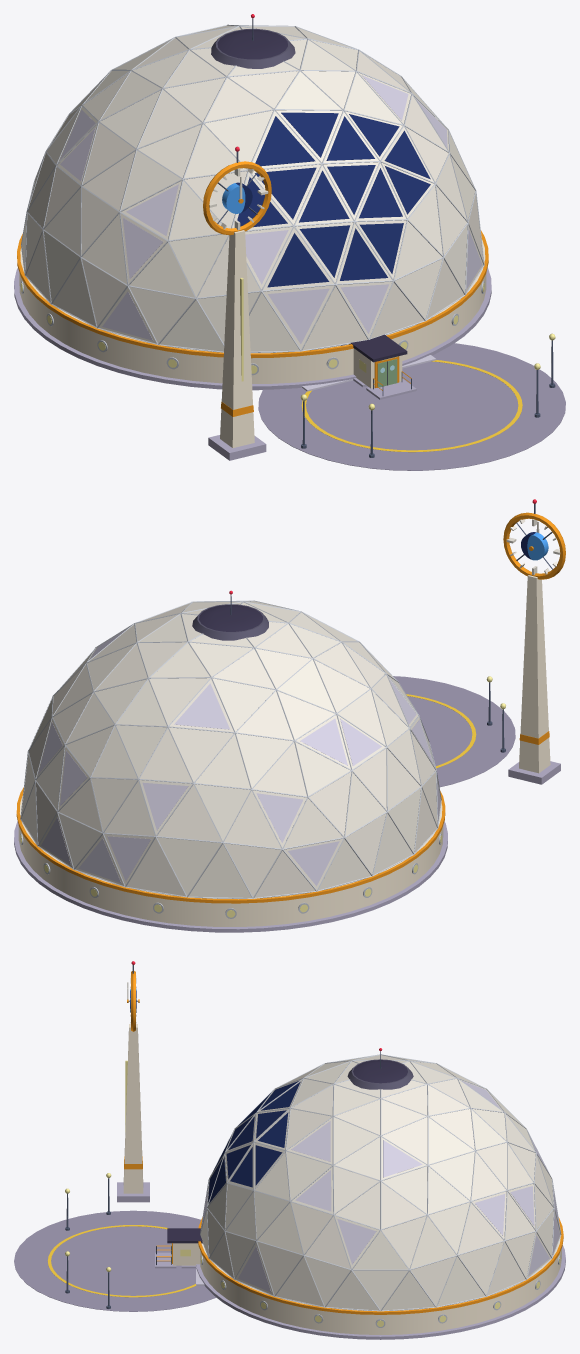
The model's file is kepler.glb.
3 views of the same model, one above another, from view 1: azimuth 30°, elevation 25°; view 2: azimuth 150°, elevation 25°; view 3: azimuth 270°, elevation 25° (orthographic). The views are drawn at different scales.
Visible parts, largest first — view 1: kepler_dome_b_22, kepler_hall, kepler_dome_b_22_roof_20, kepler_dome_b_22_cream_13; view 2: kepler_dome_b_22, kepler_hall; view 3: kepler_dome_b_22, kepler_hall, kepler_dome_b_22_cream_13.
Boxes of the visible parts, x1,y1,x2,y2 form: kepler_dome_b_22: (14,14,491,390); kepler_hall: (203,146,565,470); kepler_dome_b_22_roof_20: (349,338,407,362); kepler_dome_b_22_cream_13: (353,348,402,388); kepler_dome_b_22: (14,590,447,932); kepler_hall: (393,499,565,787); kepler_dome_b_22: (196,1048,565,1339); kepler_hall: (14,961,216,1311); kepler_dome_b_22_cream_13: (173,1243,202,1265).
Size of the model in its own units: 45.24 by 31.39 by 67.
